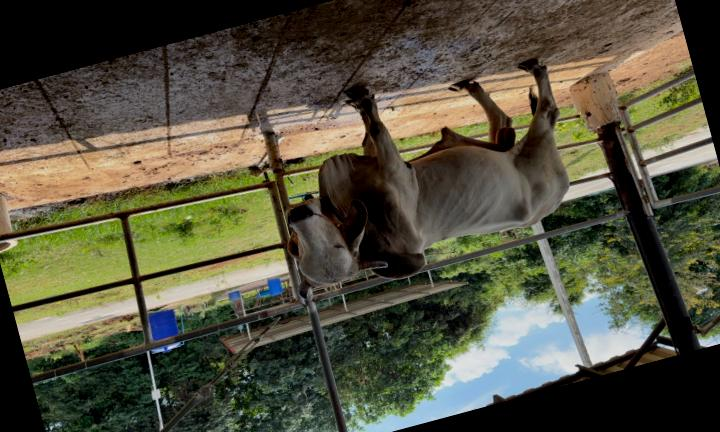Brahman: (288, 60, 568, 298)
